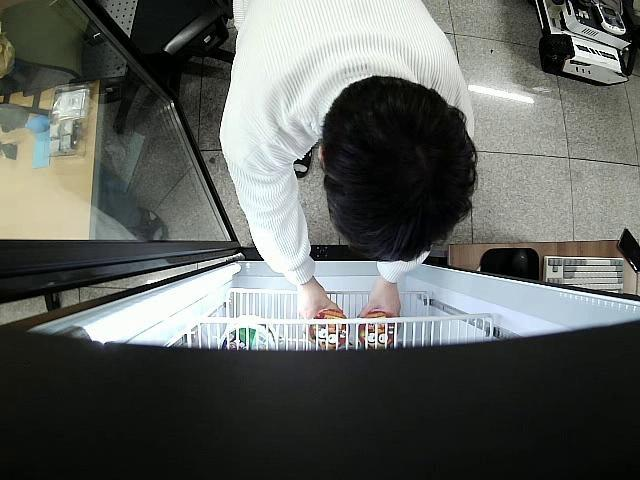06_nuguri_S: (310, 310, 350, 350), (359, 313, 396, 350)
